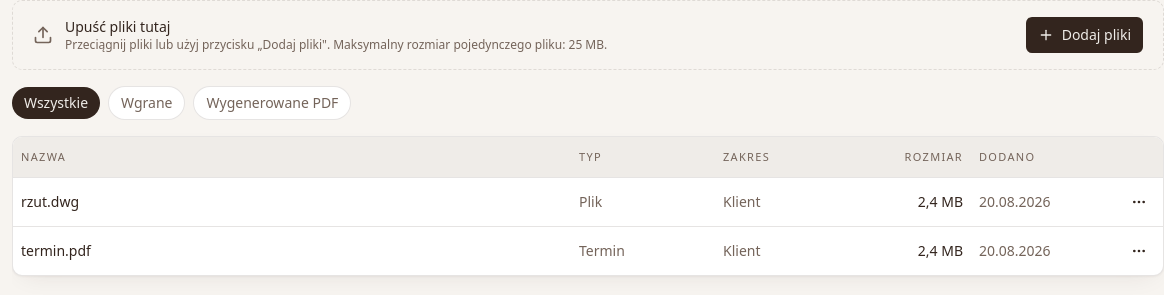
Scenario: FilesTab — jedna lista, filtr rodzaju (T-110) › filtr „Wygenerowane PDF” chowa pliki wgrane
The image size is (1164, 295).
Click the button "Wygenerowane PDF": click(272, 103) [194,86,351,120]
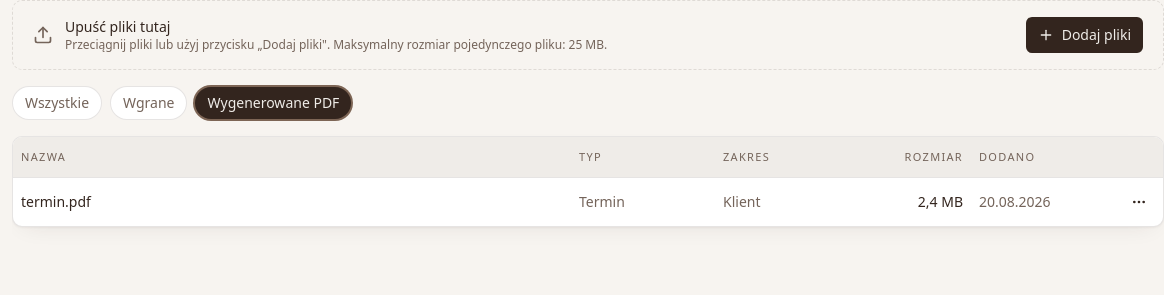
Check: the text "termin.pdf" is shown, box [21,192,91,210]
Check: the text "rzut.dwg" is gone
Click the button "Wgrane": click(149, 103) [110,86,188,120]
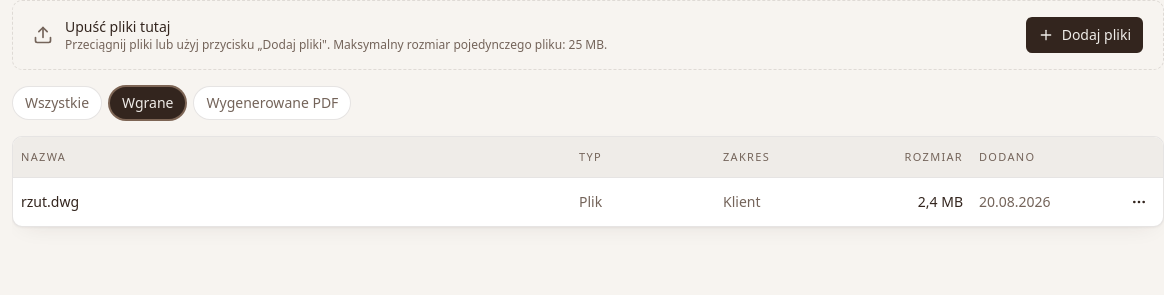
Check: the text "rzut.dwg" is shown, box [21,192,79,210]
Check: the text "termin.pdf" is gone
